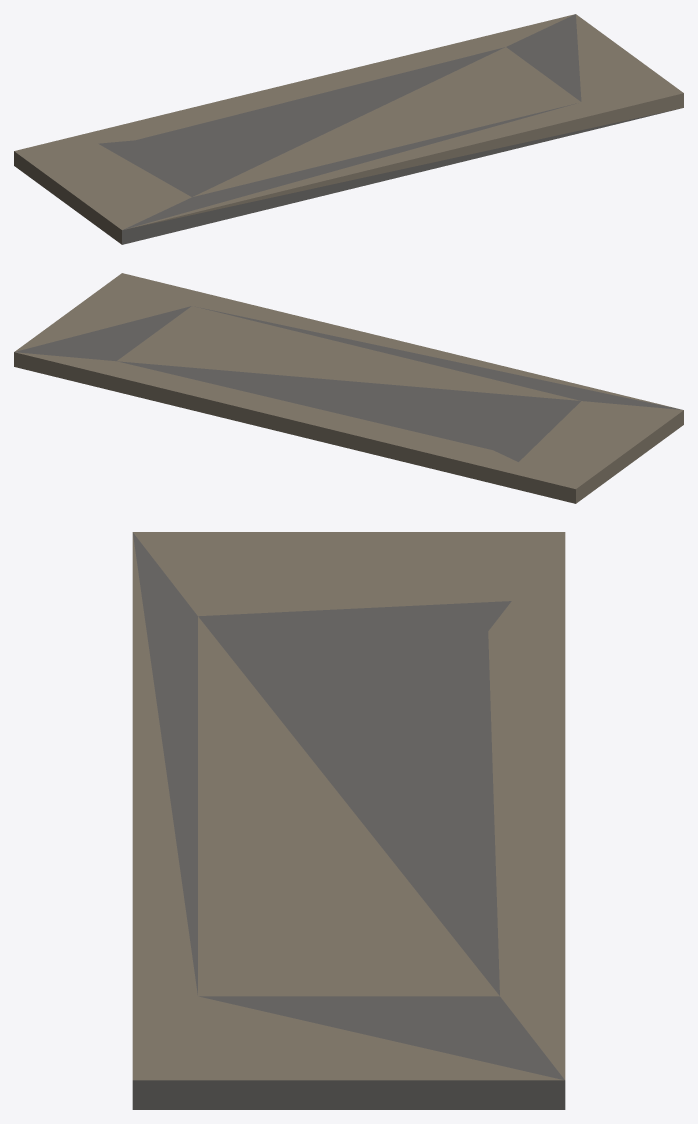
Rendered from straw_mat.glb.
3 renders of one model, top to bottom at view 1: azimuth 30°, elevation 25°; view 2: azimuth 150°, elevation 25°; view 3: azimuth 270°, elevation 25°, orthographic. The views are drawn at different scales.
Visible parts, largest first — view 1: straw_mat; view 2: straw_mat; view 3: straw_mat.
Boxes of the visible parts, box(x1,y1,x2,y2) form: straw_mat: box(14, 14, 683, 244); straw_mat: box(14, 273, 683, 503); straw_mat: box(132, 532, 565, 1109).
Size of the model in its own units: 0.6 by 0.015 by 0.2.
